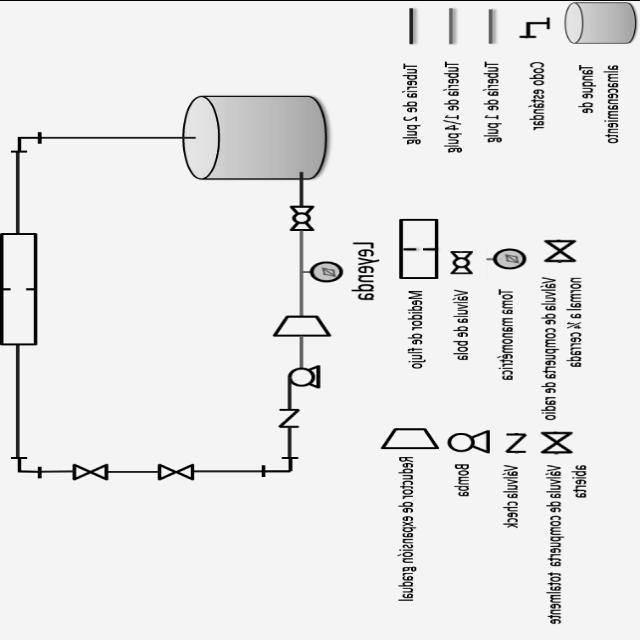Ball Valve: (446, 244, 484, 280), (282, 202, 322, 232)
Centrifugal Pump: (274, 356, 328, 388)
Check Valve: (500, 428, 534, 463), (270, 401, 304, 429)
Gate Valve: (538, 218, 584, 264), (536, 422, 584, 456), (147, 458, 197, 484), (60, 458, 106, 484)
